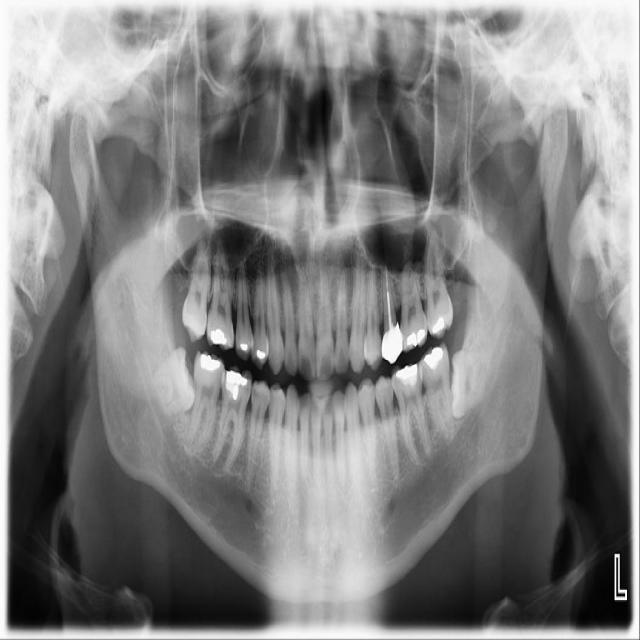52: (212, 362, 257, 414), (387, 357, 432, 407), (413, 340, 458, 390), (421, 289, 458, 340), (396, 296, 429, 351), (193, 349, 228, 400), (205, 298, 233, 350), (379, 319, 405, 366), (249, 318, 270, 371), (233, 308, 254, 359)
73: (378, 264, 398, 331), (586, 543, 592, 559)
BioHorizons Implant: (424, 230, 453, 338)
Biomet 3i Implant: (451, 347, 491, 420)
Blue Sky Bio Implant: (416, 341, 466, 448)
Caries: (179, 235, 217, 345)
Implant: (186, 346, 229, 458)
Keystone Dental Implant: (143, 343, 202, 420)
